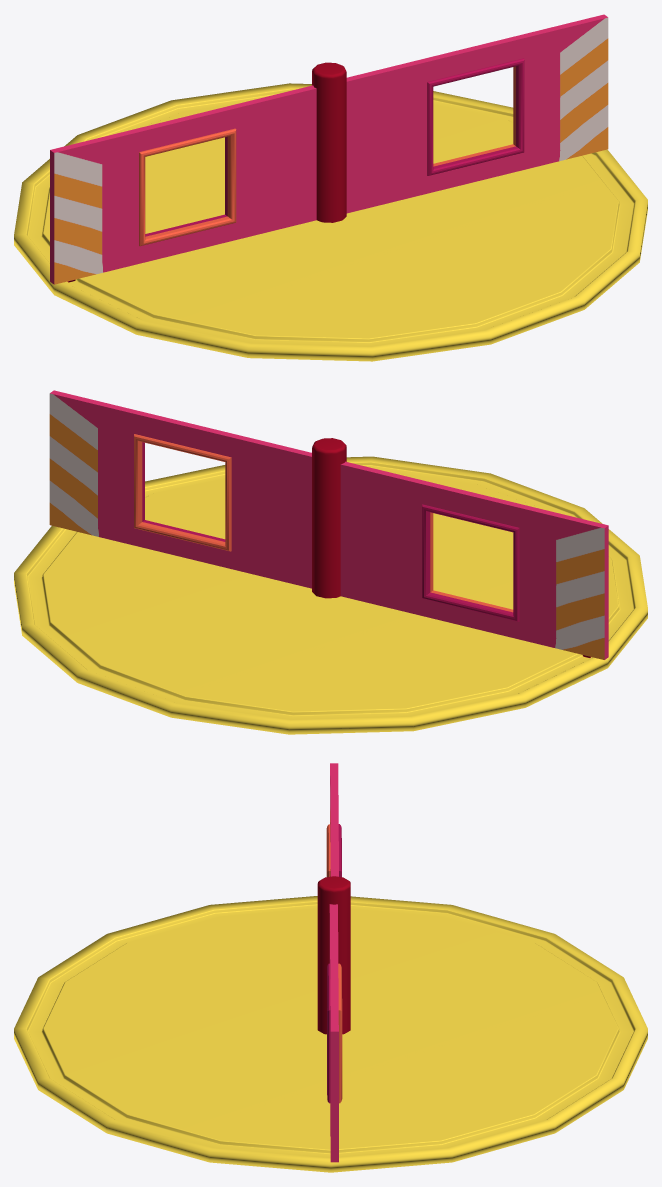
Rendered from PLF0110025.fbx.
The picture shows the model from 3 angles, top to bottom: view 1: azimuth 30°, elevation 25°; view 2: azimuth 150°, elevation 25°; view 3: azimuth 270°, elevation 25°; orthographic projection.
Visible parts, largest first — view 1: smPLF0110025; view 2: smPLF0110025; view 3: smPLF0110025.
Part boxes in pixels (x1,y1,x2,y2): smPLF0110025: (14, 14, 647, 361); smPLF0110025: (14, 390, 647, 734); smPLF0110025: (14, 763, 647, 1172).
Bounding box in the file's own units: 958 × 260 × 957.
1 material, 1 textured.
